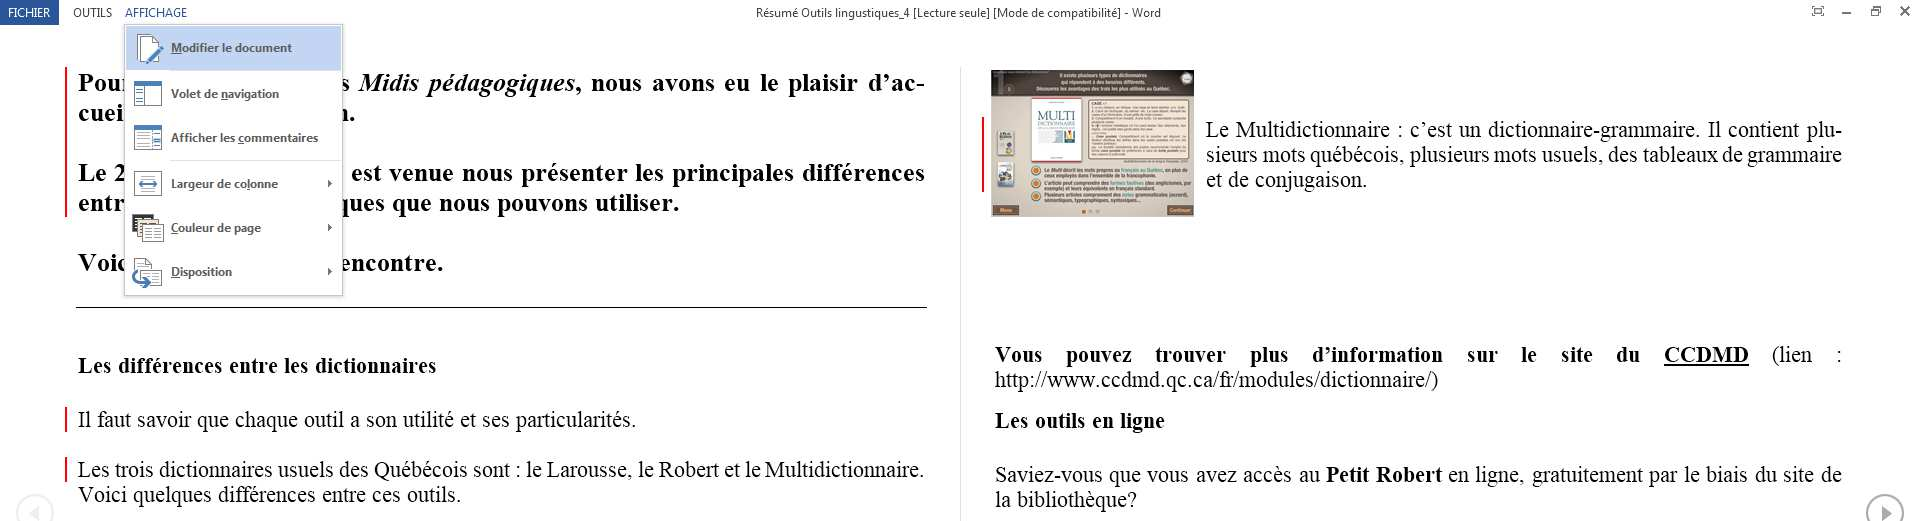texte: (995, 371, 1438, 392), (1489, 121, 1699, 142), (426, 74, 581, 97), (673, 164, 793, 187), (765, 461, 923, 477), (522, 163, 627, 187), (516, 411, 635, 432), (1017, 491, 1136, 512), (1236, 121, 1389, 137), (1256, 171, 1366, 192), (1533, 466, 1643, 487), (803, 163, 924, 181), (1748, 146, 1841, 167), (1313, 347, 1442, 362), (1311, 146, 1403, 167), (375, 461, 467, 481), (316, 358, 436, 373), (160, 461, 272, 477), (996, 466, 1102, 482), (1410, 146, 1489, 167), (134, 486, 211, 507), (498, 199, 587, 217), (239, 33, 292, 63), (343, 255, 442, 271), (789, 74, 857, 97), (219, 486, 315, 502), (119, 358, 221, 373), (167, 33, 217, 63), (596, 194, 678, 211), (236, 411, 297, 432), (172, 179, 278, 191), (547, 462, 631, 477), (1665, 347, 1748, 362), (1643, 146, 1718, 162), (1729, 121, 1799, 137), (1156, 347, 1226, 362), (1066, 351, 1131, 367), (358, 74, 419, 91), (1376, 467, 1442, 482), (1476, 466, 1523, 487), (659, 461, 719, 477), (1542, 146, 1602, 162), (133, 30, 159, 66), (869, 74, 924, 91), (132, 258, 162, 288), (238, 133, 318, 144), (278, 461, 333, 477), (1120, 413, 1164, 433), (836, 8, 909, 20), (132, 214, 163, 242), (1048, 8, 1120, 20), (138, 411, 191, 427), (408, 486, 460, 502), (403, 411, 453, 427), (1207, 146, 1257, 162), (78, 486, 127, 502), (78, 164, 124, 181), (78, 254, 124, 271), (1773, 346, 1812, 366), (389, 169, 453, 181), (1250, 347, 1288, 367), (1244, 466, 1291, 482), (343, 199, 384, 217), (653, 79, 714, 91), (171, 267, 232, 279), (79, 195, 124, 211), (1036, 413, 1084, 428), (1807, 121, 1841, 142), (221, 89, 279, 101), (995, 347, 1041, 362), (393, 199, 431, 217), (230, 359, 277, 373), (1706, 466, 1747, 482), (1326, 467, 1369, 482), (305, 411, 344, 427), (1411, 122, 1452, 137), (115, 461, 153, 477), (592, 79, 641, 91), (463, 169, 512, 181), (440, 199, 489, 211), (323, 489, 365, 502), (1263, 149, 1305, 162), (1494, 149, 1536, 162), (126, 8, 186, 17), (172, 223, 231, 232), (98, 411, 131, 427), (78, 358, 110, 373), (198, 416, 228, 432), (995, 413, 1027, 428), (1110, 471, 1140, 487), (474, 464, 510, 477), (78, 462, 109, 477), (1784, 466, 1813, 482), (914, 8, 956, 19), (636, 164, 663, 181), (1147, 471, 1188, 482), (1562, 347, 1592, 362), (340, 461, 368, 477), (1609, 146, 1637, 162), (1649, 471, 1677, 487), (352, 166, 381, 181), (1197, 471, 1236, 482), (171, 133, 217, 142), (994, 8, 1028, 19), (757, 8, 798, 17), (222, 124, 235, 152), (9, 8, 49, 17), (284, 358, 308, 373), (74, 8, 112, 17), (1756, 466, 1777, 482), (367, 416, 397, 427), (1206, 122, 1228, 137), (1468, 351, 1498, 362), (1617, 347, 1639, 362), (960, 8, 989, 19), (1723, 146, 1742, 162), (1229, 171, 1248, 187), (1822, 466, 1841, 482), (725, 79, 750, 91), (373, 491, 400, 502), (761, 74, 778, 91), (483, 416, 509, 427), (219, 213, 229, 241), (171, 89, 201, 98), (802, 8, 831, 17), (1132, 8, 1160, 17), (1459, 126, 1481, 137), (235, 226, 261, 235), (1093, 417, 1114, 428), (1521, 347, 1536, 362), (527, 461, 541, 477), (639, 461, 653, 477), (746, 461, 760, 477), (1685, 466, 1699, 482), (996, 491, 1010, 507), (1300, 471, 1320, 482), (1449, 471, 1469, 482), (78, 411, 91, 427), (1708, 121, 1721, 137), (461, 414, 476, 427), (725, 464, 740, 477), (1207, 174, 1222, 187), (343, 109, 354, 121), (904, 0, 909, 26), (1032, 8, 1044, 17), (205, 89, 217, 98), (351, 416, 359, 427), (224, 43, 232, 52), (343, 79, 349, 91), (65, 407, 67, 432), (65, 457, 67, 482), (328, 224, 332, 231), (328, 268, 332, 275), (517, 466, 519, 477), (1399, 126, 1401, 137), (154, 133, 160, 134), (1125, 13, 1128, 14)
